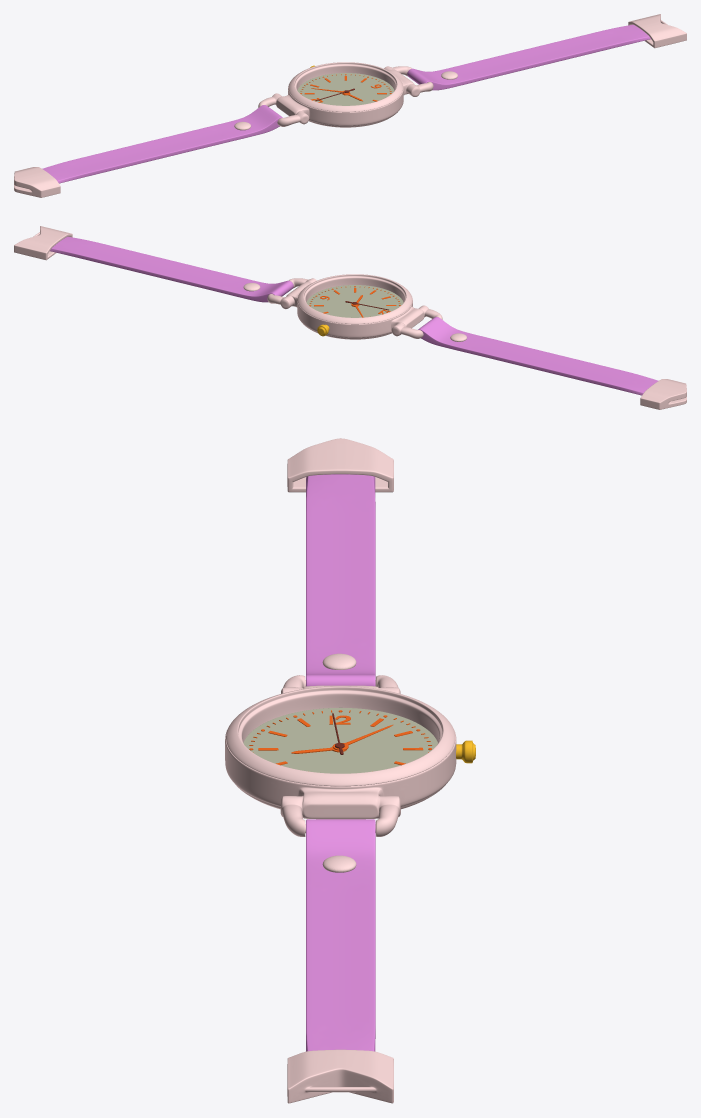
File: pink_watch.glb
The picture shows the model from 3 angles, top to bottom: view 1: azimuth 30°, elevation 25°; view 2: azimuth 150°, elevation 25°; view 3: azimuth 270°, elevation 25°; orthographic projection. The views are drawn at different scales.
Parts seen in each view (by area): view 1: Watch_Belt_Cylinder.012, Watch_Metall_Cylinder.015, Watch_Circle_Cylinder.013, Cube.001; view 2: Watch_Belt_Cylinder.012, Watch_Metall_Cylinder.015, Watch_Circle_Cylinder.013, Cube.001; view 3: Watch_Belt_Cylinder.012, Watch_Metall_Cylinder.015, Watch_Circle_Cylinder.013, Cube.001.
Part boxes in pixels (x1,y1,x2,y2): Watch_Belt_Cylinder.012: (42, 24, 650, 183); Watch_Metall_Cylinder.015: (258, 62, 433, 127); Watch_Circle_Cylinder.013: (297, 73, 394, 105); Cube.001: (14, 14, 686, 197); Watch_Belt_Cylinder.012: (50, 236, 658, 395); Watch_Metall_Cylinder.015: (267, 274, 442, 339); Watch_Circle_Cylinder.013: (306, 285, 403, 317); Cube.001: (14, 226, 686, 409); Watch_Belt_Cylinder.012: (306, 474, 375, 1051); Watch_Metall_Cylinder.015: (225, 675, 456, 836); Watch_Circle_Cylinder.013: (243, 707, 437, 773); Cube.001: (287, 438, 393, 1103).
Size of the model in its own units: 65.66 by 2.56 by 10.81.
